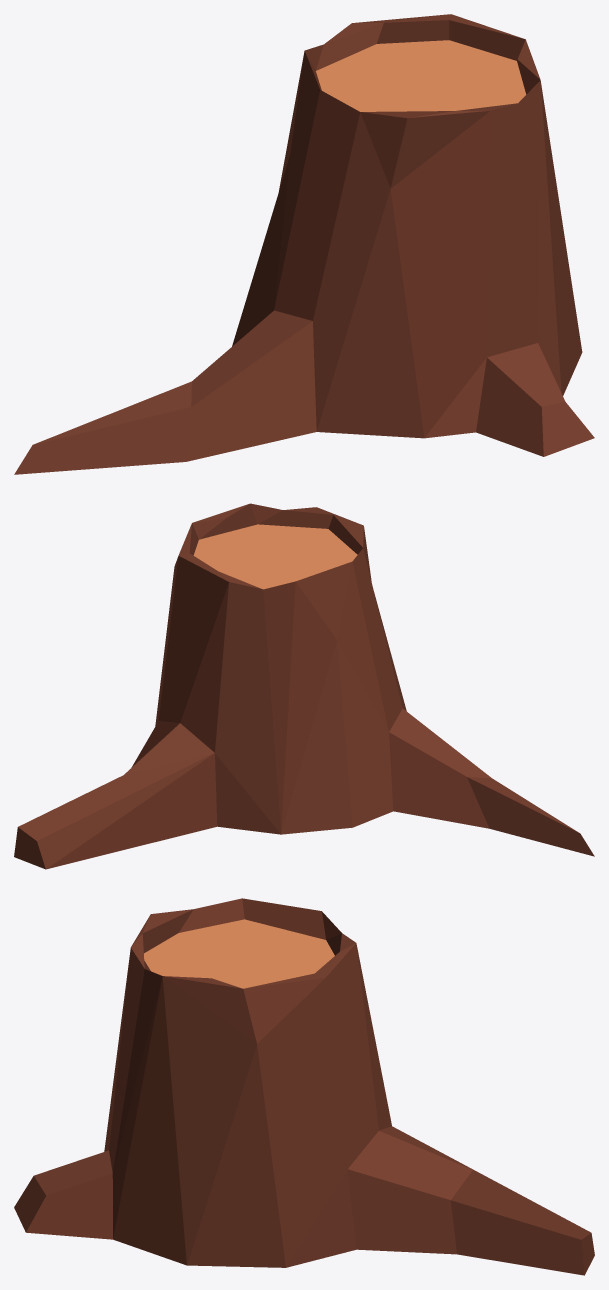
The model's file is pine_trunk_type_2_LOD1.fbx.
3 views of the same model, one above another, from view 1: azimuth 30°, elevation 25°; view 2: azimuth 150°, elevation 25°; view 3: azimuth 270°, elevation 25° (orthographic). The views are drawn at different scales.
Parts seen in each view (by area): view 1: pt_type_2; view 2: pt_type_2; view 3: pt_type_2.
Boxes of the visible parts, <box> form: pt_type_2: <box>14,14,594,474</box>; pt_type_2: <box>14,503,594,869</box>; pt_type_2: <box>14,898,594,1275</box>.
Bounding box in the file's own units: 367 × 194 × 371.
